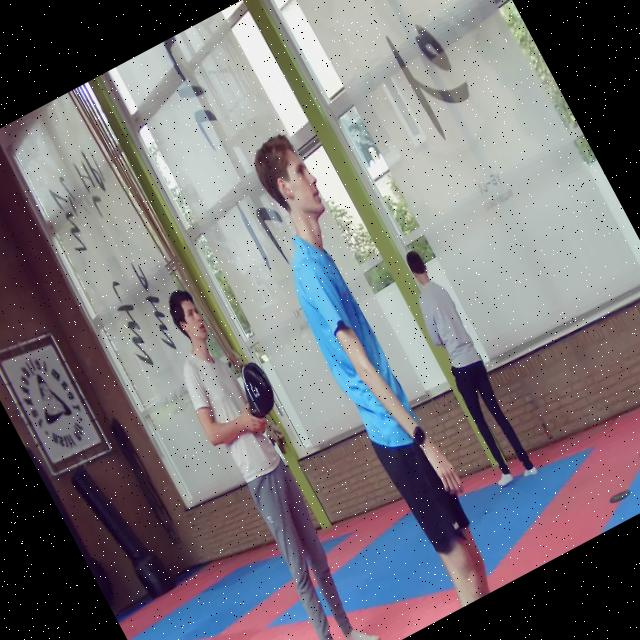paddle: (241, 364, 273, 419)
